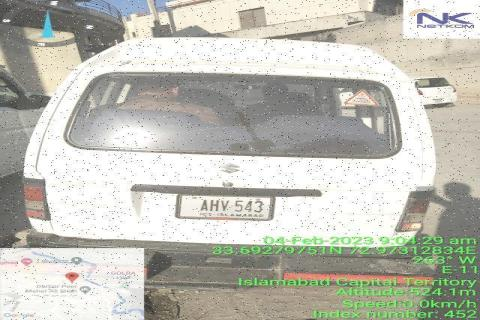LicensePlate: (165, 189, 287, 226)
